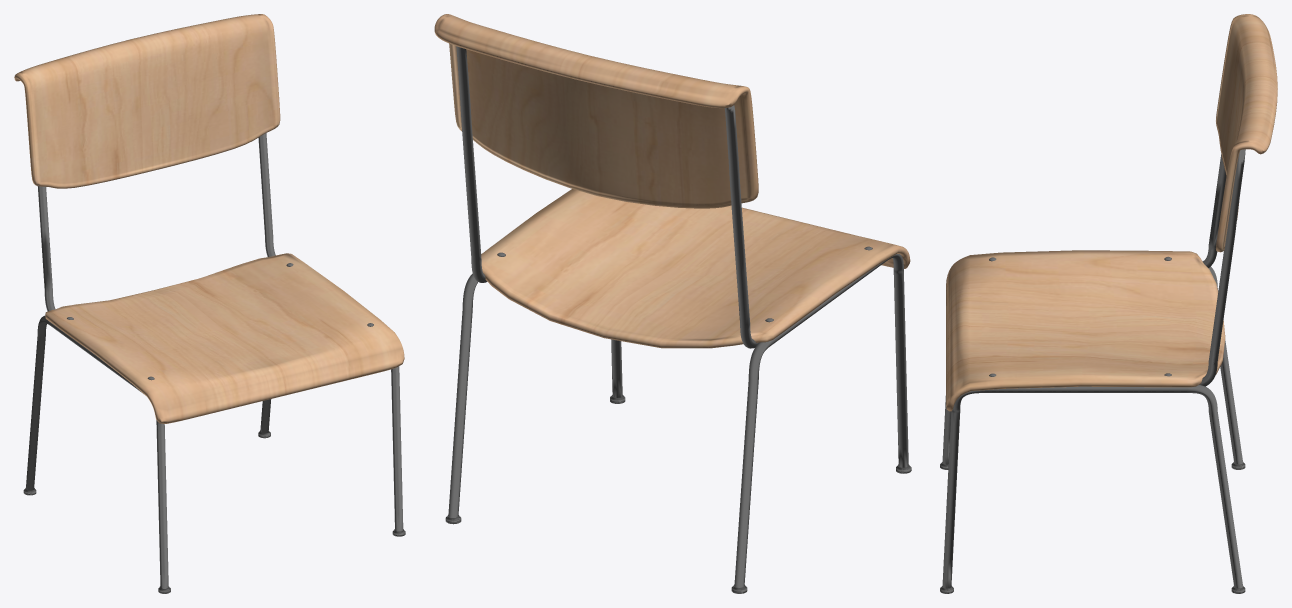
The picture shows the model from 3 angles, left to right: view 1: azimuth 30°, elevation 25°; view 2: azimuth 150°, elevation 25°; view 3: azimuth 270°, elevation 25°; orthographic projection. The views are drawn at different scales.
Visible parts, largest first — view 1: Box01.016, Box01.001, Box01, Box01.010; view 2: Box01.016, Box01.001, Box01, Box01.010; view 3: Box01.016, Box01.001, Box01, Box01.010.
Part boxes in pixels (x1,y1,x2,y2): Box01.016: [45, 253, 404, 423]; Box01.001: [14, 14, 280, 188]; Box01: [23, 177, 405, 593]; Box01.010: [258, 133, 275, 256]; Box01.016: [481, 189, 910, 348]; Box01.001: [434, 14, 758, 208]; Box01: [445, 105, 911, 593]; Box01.010: [456, 46, 487, 282]; Box01.016: [946, 250, 1225, 411]; Box01.001: [1216, 14, 1277, 252]; Box01: [940, 154, 1245, 593]; Box01.010: [1199, 149, 1245, 386].
Bounding box in the file's own units: 132 × 211 × 144.
Materials: 2 (1 with a texture image).
